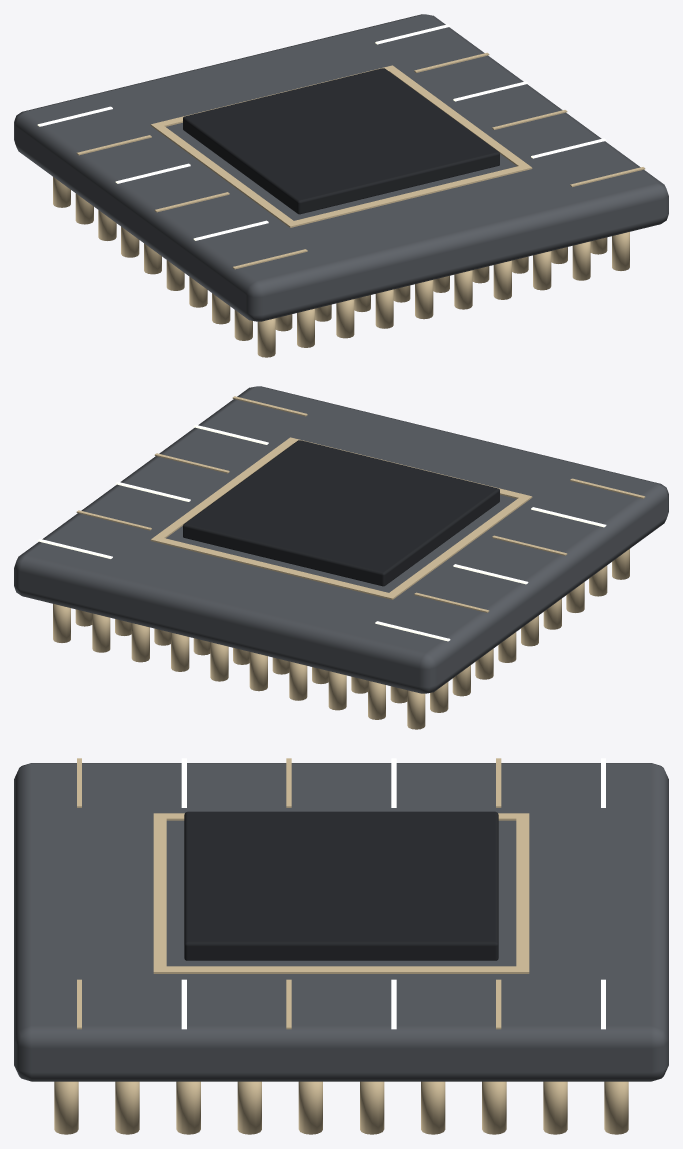
Rendered from soc.glb.
3 views of the same model, one above another, from view 1: azimuth 30°, elevation 25°; view 2: azimuth 150°, elevation 25°; view 3: azimuth 270°, elevation 25° (orthographic). The views are drawn at different scales.
Parts seen in each view (by area): view 1: Package, Die, Pin, Trace; view 2: Package, Die, Pin, Trace; view 3: Package, Die, Pin, Trace.
Boxes of the visible parts, x1,y1,x2,y2 form: Package: [14, 14, 668, 321]; Die: [183, 68, 499, 214]; Pin: [53, 177, 629, 357]; Trace: [150, 65, 532, 227]; Package: [14, 386, 668, 693]; Die: [183, 440, 499, 586]; Pin: [53, 549, 629, 729]; Trace: [150, 437, 532, 599]; Package: [14, 763, 668, 1081]; Die: [184, 811, 498, 960]; Pin: [54, 1081, 628, 1134]; Trace: [153, 813, 529, 973].
Bounding box in the file's own units: 1.5 × 0.345 × 1.5.
